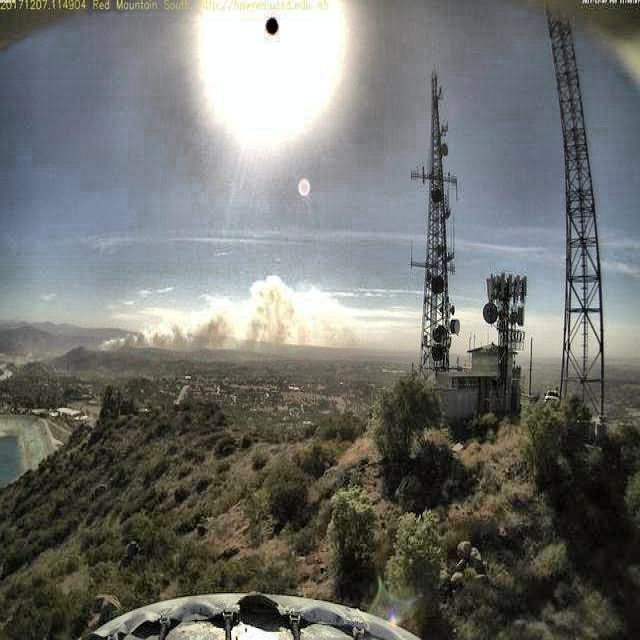smoke: (95, 268, 382, 357)
